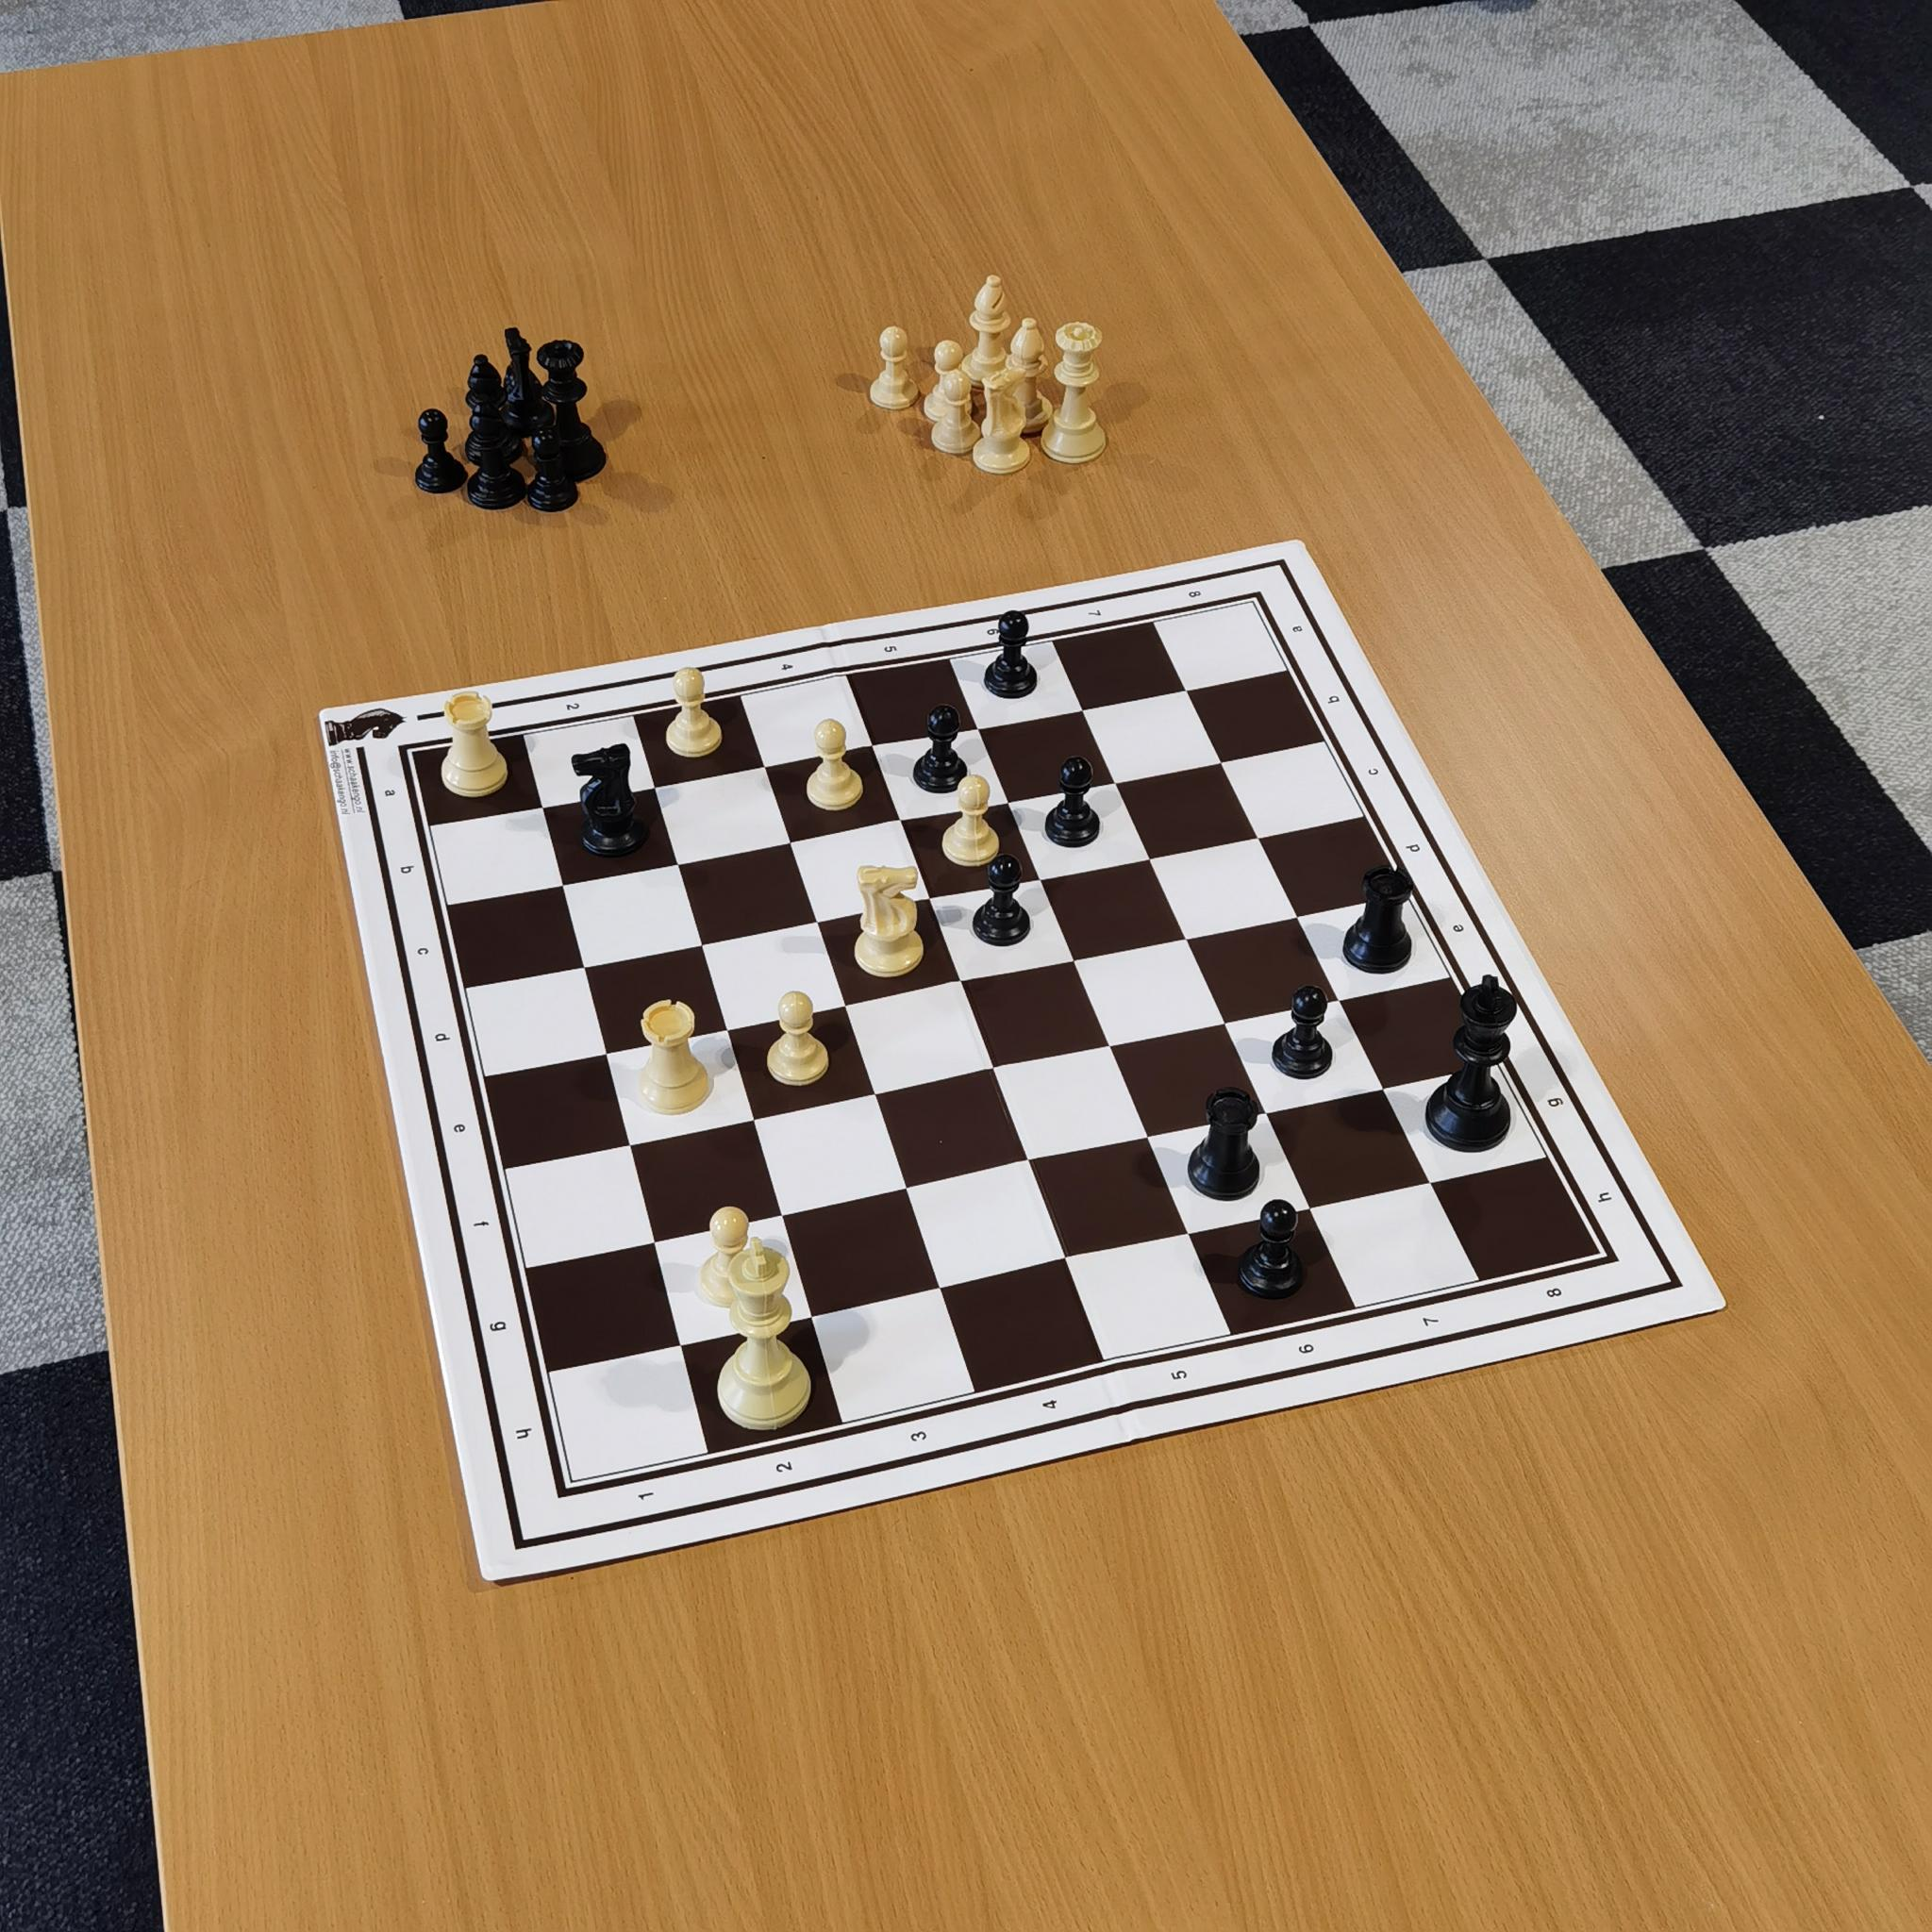corners: (541, 1476, 586, 1516), (389, 734, 435, 773), (1592, 1247, 1633, 1286), (1242, 580, 1283, 617)
eight: (1537, 1272, 1575, 1316), (1182, 575, 1214, 609)
one: (625, 1476, 671, 1514), (442, 704, 483, 738)
